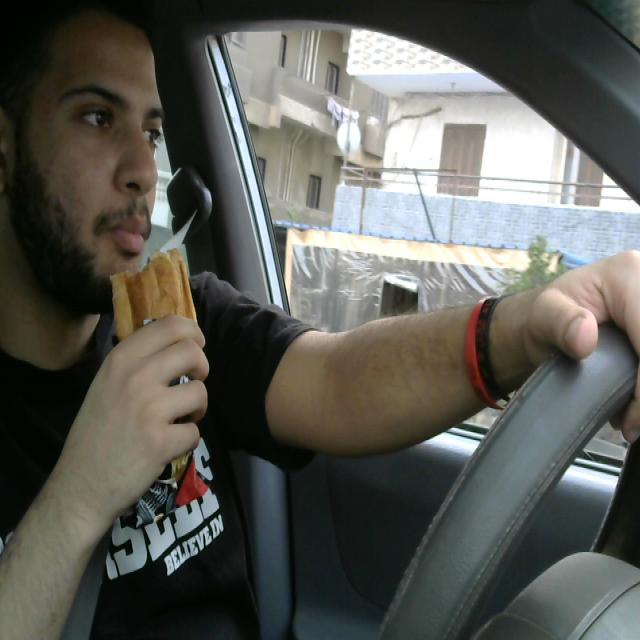eating: (102, 252, 212, 519)
